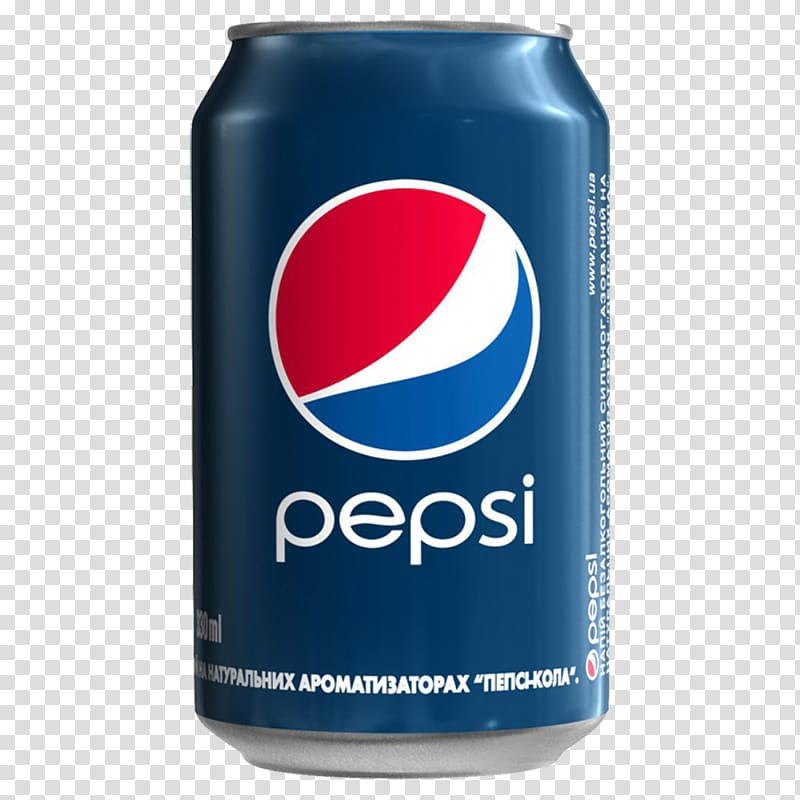pepsi: (189, 15, 612, 785)
